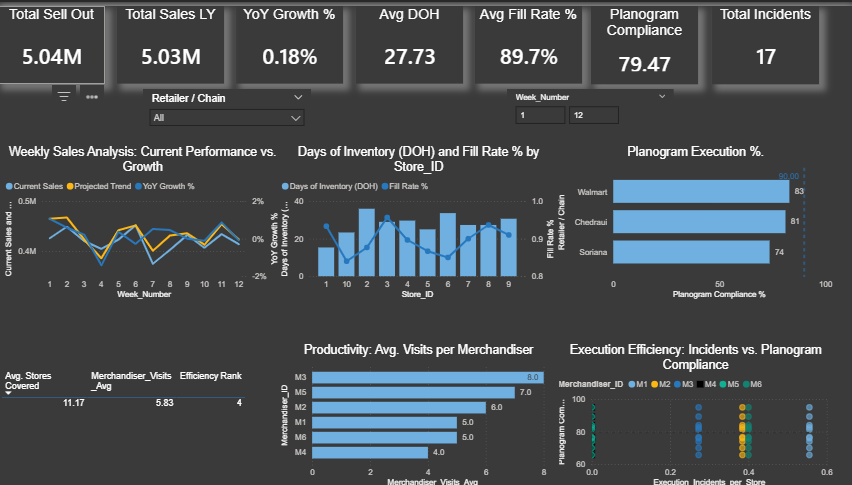

This screenshot's page, from the dashboard's own definition file:
{"tool":"powerbi","page":{"name":"Page 1","canvas":[1280,720],"ordinal":0},"visuals":[{"type":"lineChart","title":"Weekly Sales Analysis: Current Performance vs. Growth","fields":{"Category":["Dim_Week.Week_Number"],"Y":["KPIs.Sales_SellOut_Total","KPIs.5-Month Forecast"],"Y2":["KPIs.YoY Sales Growth %"]},"box":[6,207.6,420,235],"z":0},{"type":"lineClusteredColumnComboChart","fields":{"Category":["Dim_Store.Store_ID"],"Y":["KPIs.Avg Days on Hand (DOH)"],"Y2":["KPIs.Fill Rate %"]},"box":[419,207.6,420,235],"z":1000},{"type":"cardVisual","title":"YoY Growth %","fields":{"Data":["KPIs.YoY Sales Growth %"]},"box":[356,0,160,116],"z":2000},{"type":"clusteredBarChart","title":"Planogram Execution %.","fields":{"Y":["KPIs.Planogram Compliance %"],"Category":["Dim_Store.Retailer / Chain"]},"box":[832,207.6,420,235],"z":3000},{"type":"cardVisual","title":"Total Incidents","fields":{"Data":["KPIs.Execution_Incidents_Total"]},"box":[1066.6,0,160,116.5],"z":4000},{"type":"scatterChart","title":"Execution Efficiency: Incidents vs. Planogram Compliance","fields":{"X":["KPIs.Execution_Incidents_per_Store"],"Y":["KPIs.Execution_Planogram_Avg"],"Category":["Dim_Store.Store_ID"],"Series":["Dim_Merchandiser.Merchandiser_ID"]},"box":[832,503.4,420,220],"z":5000},{"type":"tableEx","fields":{"Values":["KPIs.Merchandiser_Stores_Covered_Avg","KPIs.Merchandiser_Visits_Avg","KPIs.Merchandiser_Visits_Rank"]},"box":[0,539.3,419.8,98.6],"z":6000},{"type":"clusteredBarChart","title":"Productivity: Avg. Visits per Merchandiser","fields":{"Category":["Dim_Merchandiser.Merchandiser_ID"],"Y":["KPIs.Merchandiser_Visits_Avg"]},"box":[419,503.4,420,220],"z":7000},{"type":"cardVisual","title":"Total Sell Out","fields":{"Data":["KPIs.Sales_SellOut_Total"]},"box":[0,0,160,116],"z":8000},{"type":"cardVisual","title":"Avg DOH","fields":{"Data":["KPIs.Inventory_DOH_Avg"]},"box":[534,0,160,116],"z":9000},{"type":"cardVisual","title":"Avg Fill Rate %","fields":{"Data":["KPIs.Inventory_FillRate_Avg"]},"box":[712,0,160,116],"z":10000},{"type":"cardVisual","title":"Planogram Compliance","fields":{"Data":["KPIs.Execution_Planogram_Avg"]},"box":[885.8,0,159.8,116.5],"z":11000},{"type":"cardVisual","title":"Total Sales LY","fields":{"Data":["KPIs.Sales_SellOut_LY_Total"]},"box":[178,0,160,116],"z":11001},{"type":"slicer","fields":{"Values":["Dim_Store.Retailer / Chain"]},"box":[216.6,124,251,59.8],"z":11002},{"type":"slicer","fields":{"Values":["Dim_Week.Week_Number"]},"box":[760.3,124,249.5,59.8],"z":11003}]}

Visuals, with their boxes in screenshot pixels (x1, y1, x2, y2), scaled from the page's 1280x720 canvas onto the 852x485 screenshot:
"Weekly Sales Analysis: Current Performance vs. Growth" lineChart: [x1=4, y1=140, x2=284, y2=298]
lineClusteredColumnComboChart - Dim_Store.Store_ID x KPIs.Avg Days on Hand (DOH): [x1=279, y1=140, x2=558, y2=298]
"YoY Growth %" cardVisual: [x1=237, y1=0, x2=343, y2=78]
"Planogram Execution %." clusteredBarChart: [x1=554, y1=140, x2=833, y2=298]
"Total Incidents" cardVisual: [x1=710, y1=0, x2=816, y2=78]
"Execution Efficiency: Incidents vs. Planogram Compliance" scatterChart: [x1=554, y1=339, x2=833, y2=484]
tableEx - KPIs.Merchandiser_Stores_Covered_Avg x KPIs.Merchandiser_Visits_Avg: [x1=0, y1=363, x2=279, y2=430]
"Productivity: Avg. Visits per Merchandiser" clusteredBarChart: [x1=279, y1=339, x2=558, y2=484]
"Total Sell Out" cardVisual: [x1=0, y1=0, x2=106, y2=78]
"Avg DOH" cardVisual: [x1=355, y1=0, x2=462, y2=78]
"Avg Fill Rate %" cardVisual: [x1=474, y1=0, x2=580, y2=78]
"Planogram Compliance" cardVisual: [x1=590, y1=0, x2=696, y2=78]
"Total Sales LY" cardVisual: [x1=118, y1=0, x2=225, y2=78]
slicer - Dim_Store.Retailer / Chain: [x1=144, y1=84, x2=311, y2=124]
slicer - Dim_Week.Week_Number: [x1=506, y1=84, x2=672, y2=124]
